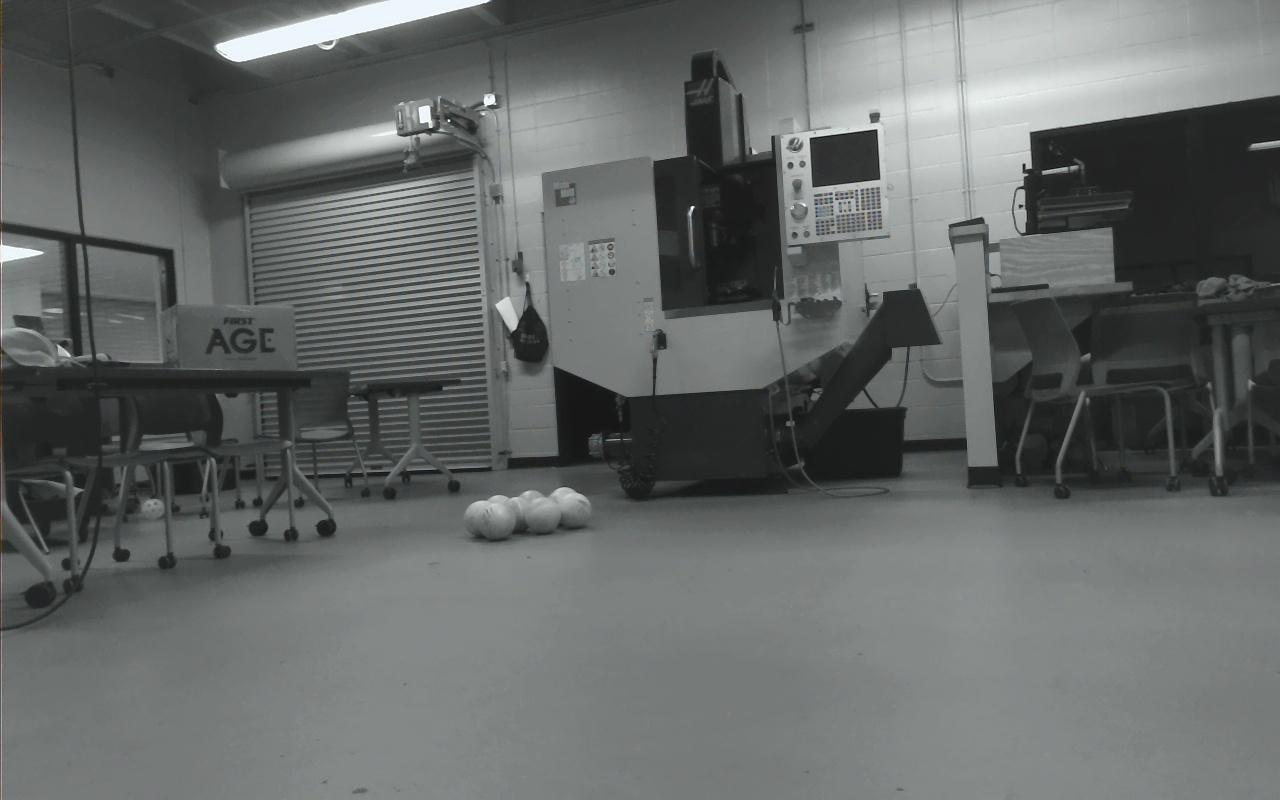Fuel: (477, 502, 516, 541), (524, 497, 562, 534), (556, 492, 593, 530), (463, 499, 497, 539), (484, 494, 518, 533), (515, 489, 548, 528), (548, 486, 580, 525), (507, 497, 534, 533)
